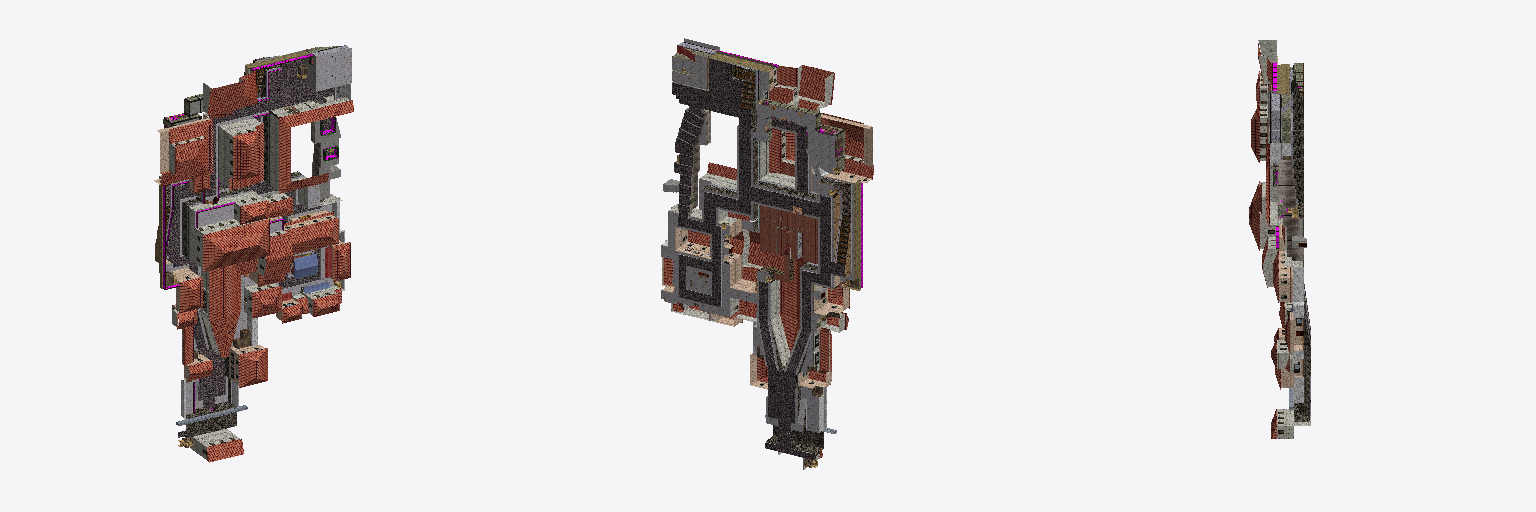
3 views of the same model, side by side, from view 1: azimuth 30°, elevation 25°; view 2: azimuth 150°, elevation 25°; view 3: azimuth 270°, elevation 25° (orthographic).
Visible parts, largest first — view 1: BSP_Object.model_0; view 2: BSP_Object.model_0; view 3: BSP_Object.model_0.
Part boxes in pixels (x1,y1,x2,y2): BSP_Object.model_0: (154, 45, 353, 462); BSP_Object.model_0: (661, 38, 873, 469); BSP_Object.model_0: (1249, 40, 1310, 438).
Bounding box in the file's own units: 70.8 × 129 × 18.8.
87 materials, 85 textured.